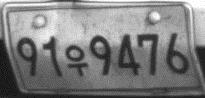1: (41, 35, 62, 79)
4: (117, 33, 141, 76)
6: (165, 32, 190, 75)
7: (135, 32, 160, 77)
9: (88, 34, 113, 76), (15, 36, 38, 78)
우: (64, 43, 89, 77)
